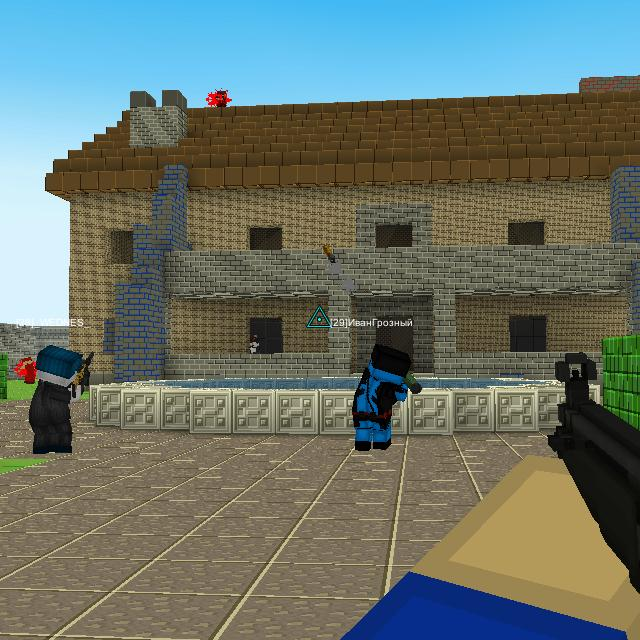enemy: (20, 356, 36, 384), (250, 334, 261, 354), (216, 90, 227, 107)
